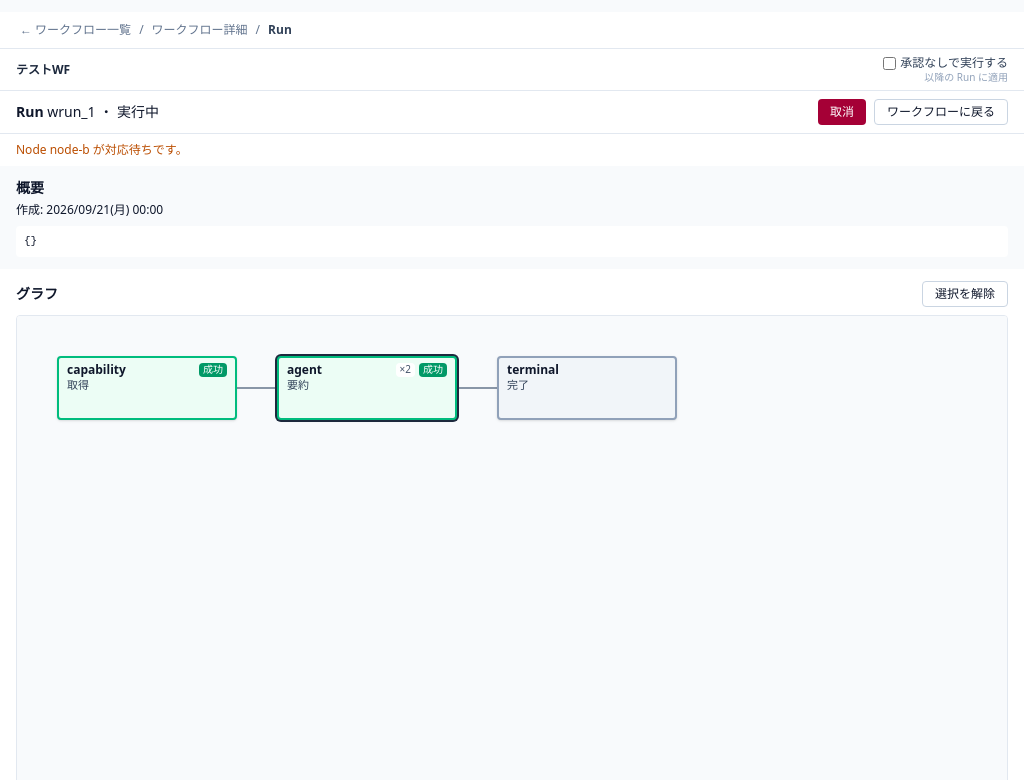
Scenario: WorkflowRunPage run graph › filters the node history to the clicked graph node
Expected: the element with test id "workflow-canvas" is shown, [16,315,1008,779]
Click the button with test id "workflow-node-node-a": (147, 388) [57,356,237,420]
(page scrolled)
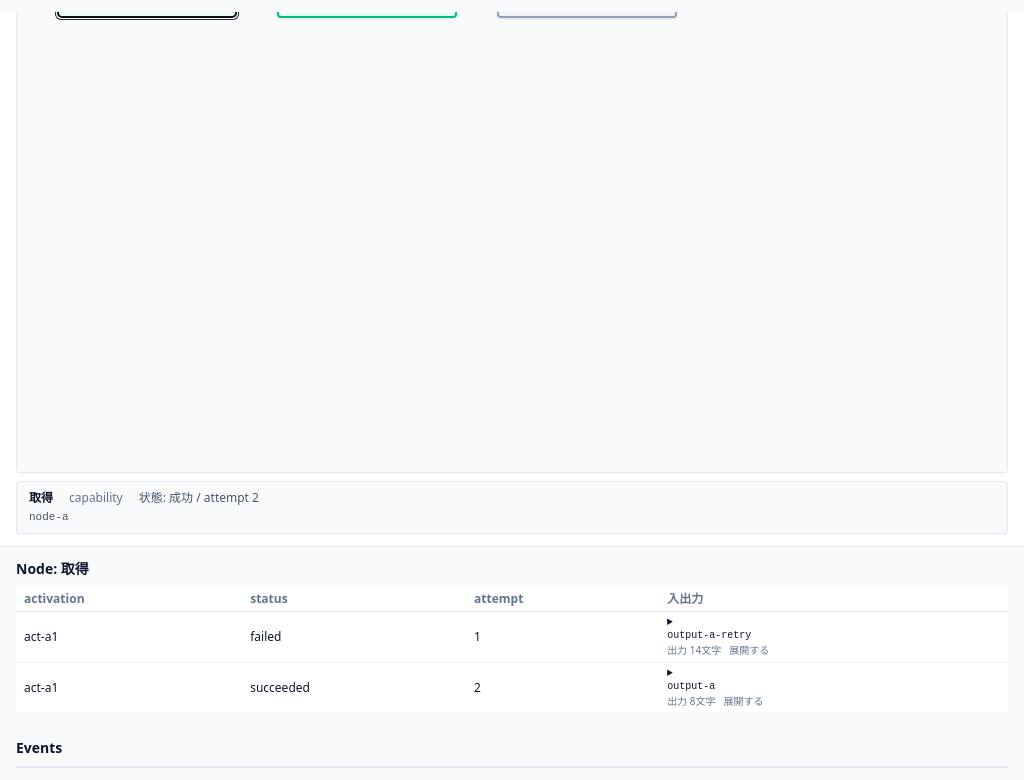
Now the element with test id "run-node-detail" shows "node-a", box [29,511,69,523]
Now the number of rows is 3, box [16,587,1008,611]; [16,611,1008,662]; [16,662,1008,713]
Now the text "output-a" is shown, box [667,681,715,692]
